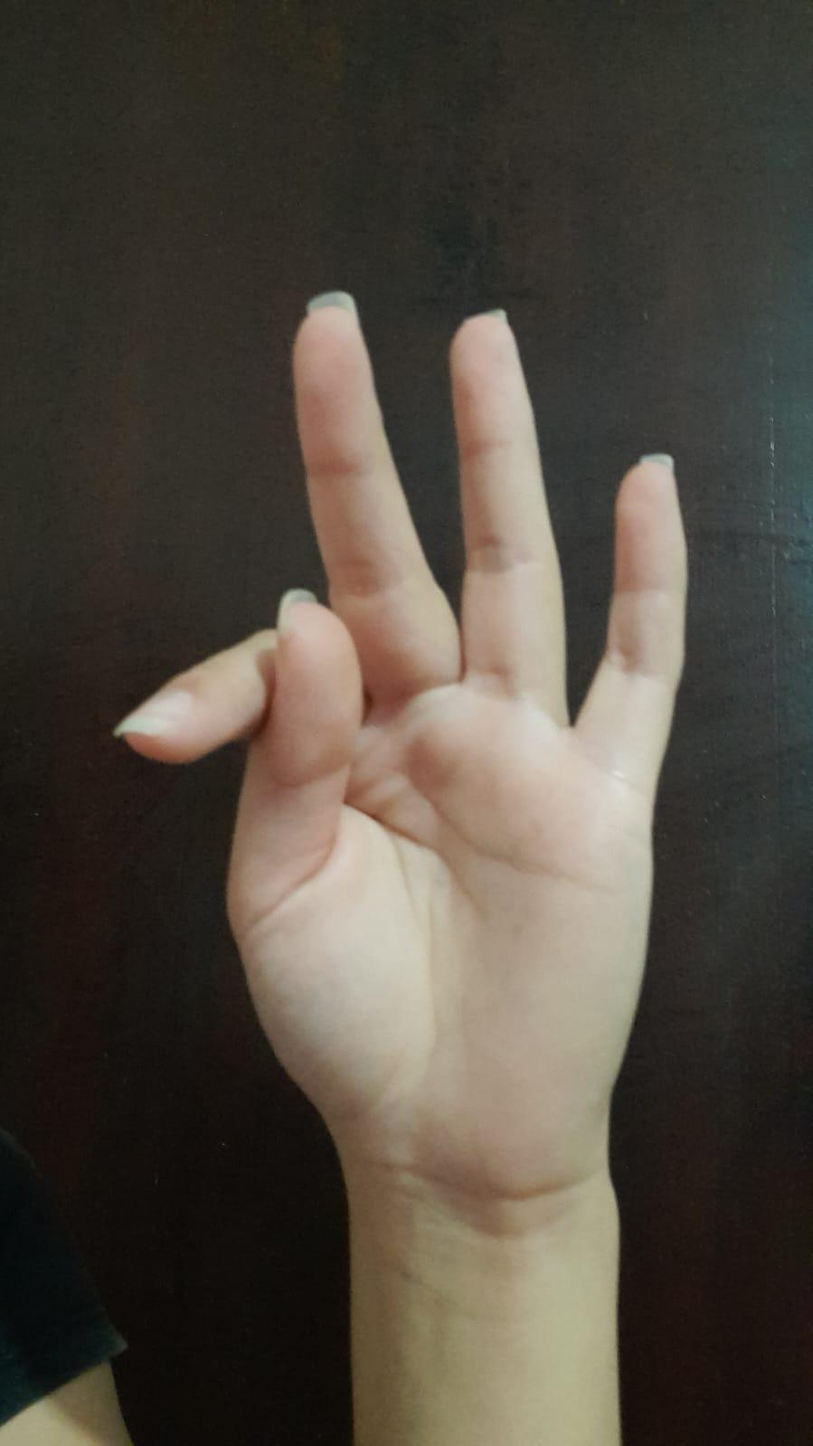T: (90, 276, 692, 1239)
